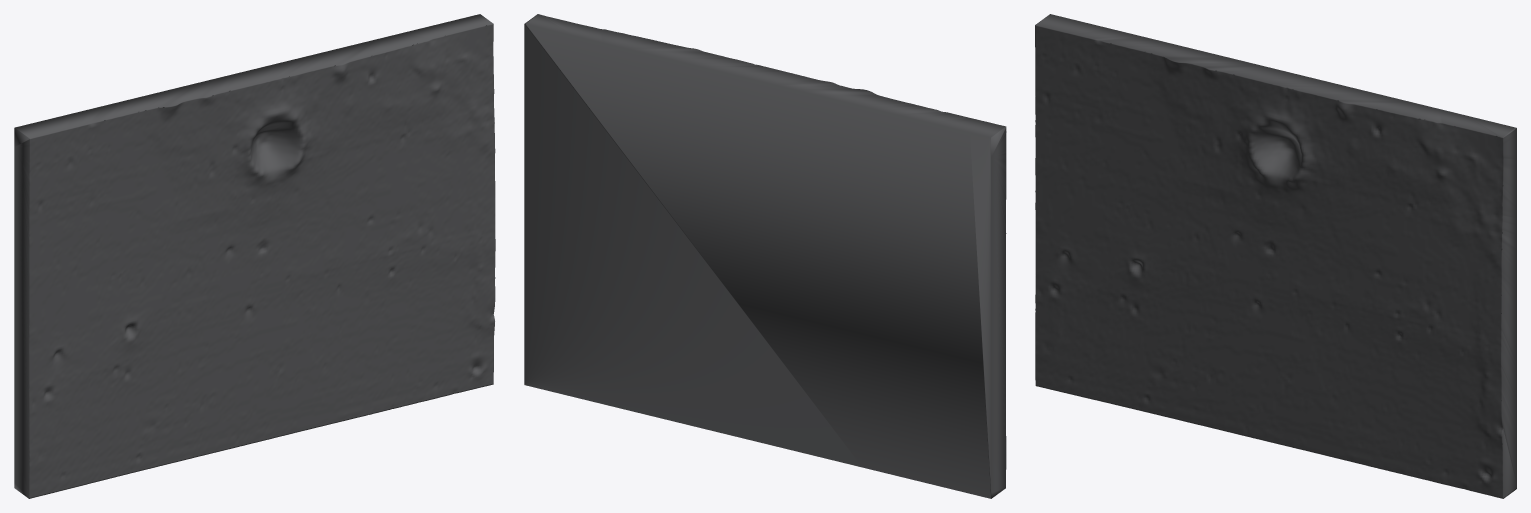
File: ksc-terrain-3.obj
3 views of the same model, side by side, from view 1: azimuth 30°, elevation 25°; view 2: azimuth 150°, elevation 25°; view 3: azimuth 330°, elevation 25° (orthographic).
Bounding box in the file's own units: 7.22 × 5.34 × 0.5173.
